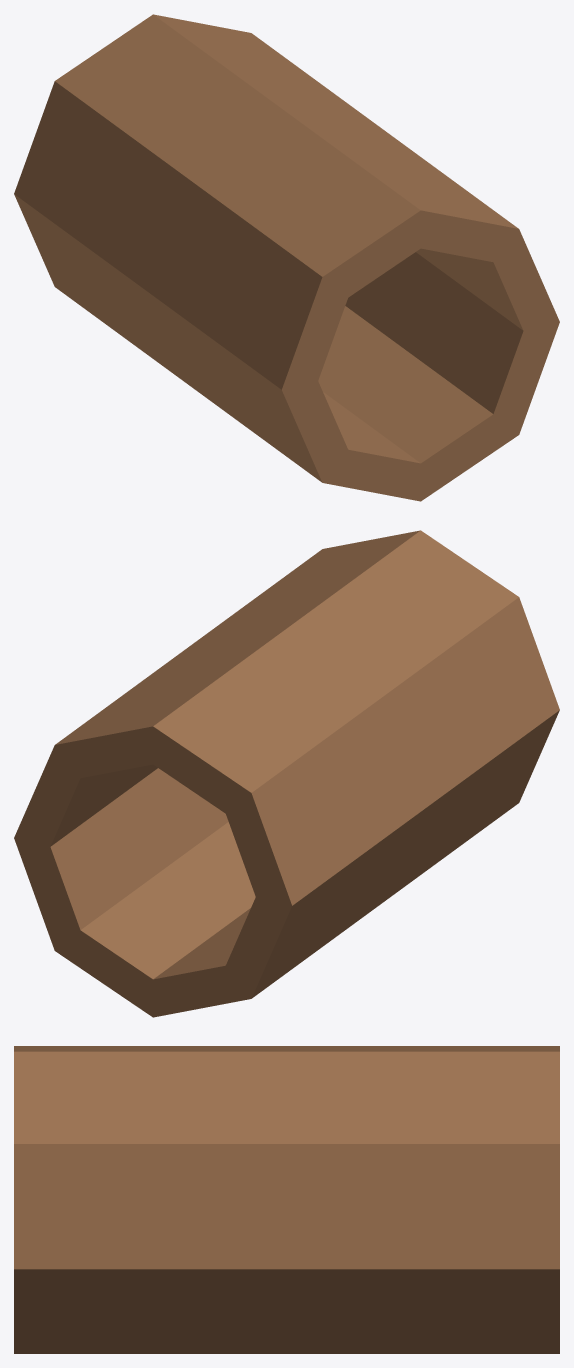
File: Scrap_OpenPipe.fbx
The picture shows the model from 3 angles, top to bottom: view 1: azimuth 30°, elevation 25°; view 2: azimuth 150°, elevation 25°; view 3: azimuth 270°, elevation 25°; orthographic projection.
Visible parts, largest first — view 1: Scrap_OpenPipe; view 2: Scrap_OpenPipe; view 3: Scrap_OpenPipe.
Boxes of the visible parts, bbox=[...] form: Scrap_OpenPipe: bbox=[14, 14, 559, 501]; Scrap_OpenPipe: bbox=[14, 530, 559, 1017]; Scrap_OpenPipe: bbox=[14, 1046, 559, 1353].
Size of the model in its own units: 84 by 84 by 140.
